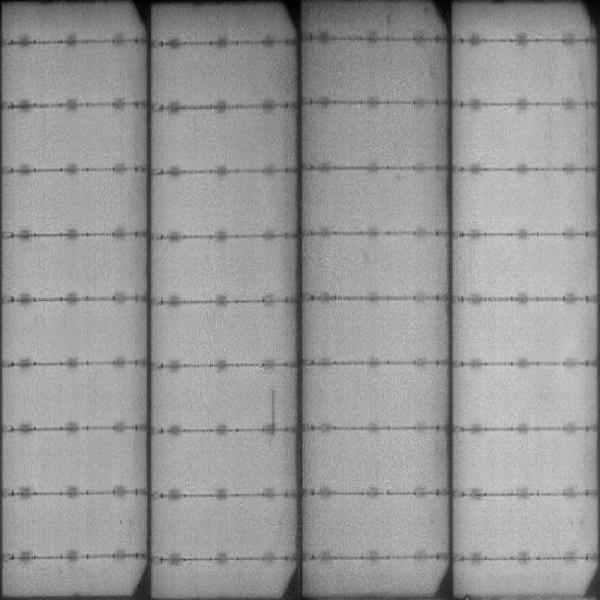scratch: (267, 385, 281, 425)
